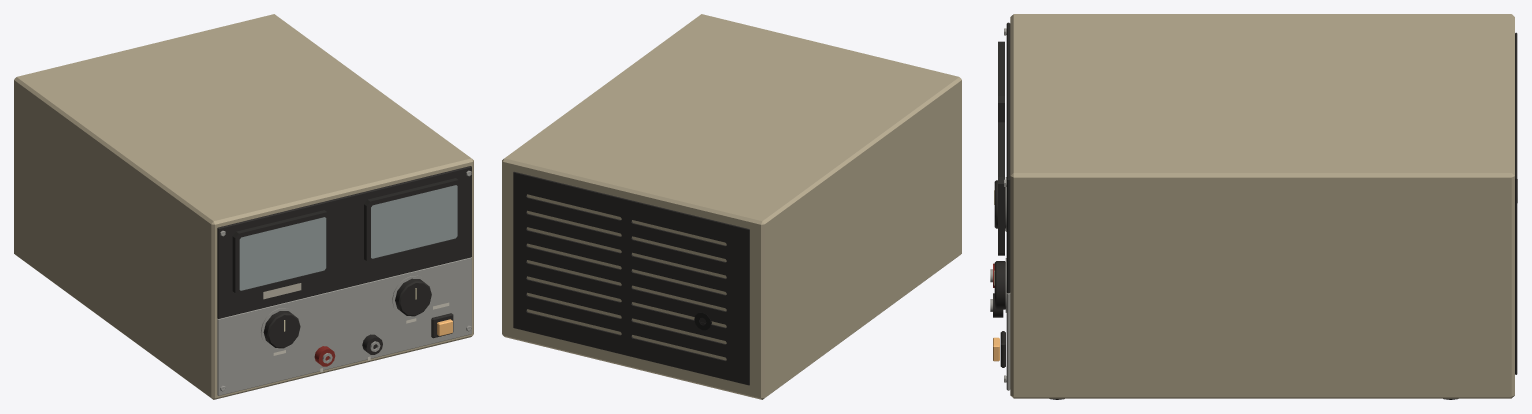
Rendered from bench-psu-fcb3f728390c.glb.
The picture shows the model from 3 angles, left to right: view 1: azimuth 30°, elevation 25°; view 2: azimuth 150°, elevation 25°; view 3: azimuth 270°, elevation 25°; orthographic projection. The views are drawn at different scales.
Visible parts, largest first — view 1: enamel-beige, brushed, plastic-dark, glass-clear; view 2: enamel-beige, plastic-dark; view 3: enamel-beige, plastic-dark, brushed.
Boxes of the visible parts, x1,y1,x2,y2 form: enamel-beige: (14, 14, 473, 399); brushed: (217, 170, 471, 395); plastic-dark: (217, 166, 471, 354); glass-clear: (239, 185, 457, 290); enamel-beige: (502, 14, 961, 399); plastic-dark: (513, 171, 749, 385); enamel-beige: (1010, 14, 1514, 398); plastic-dark: (993, 22, 1517, 374); brushed: (990, 28, 1010, 390).
Bounding box in the file's own units: 0.22 × 0.15 × 0.303.
